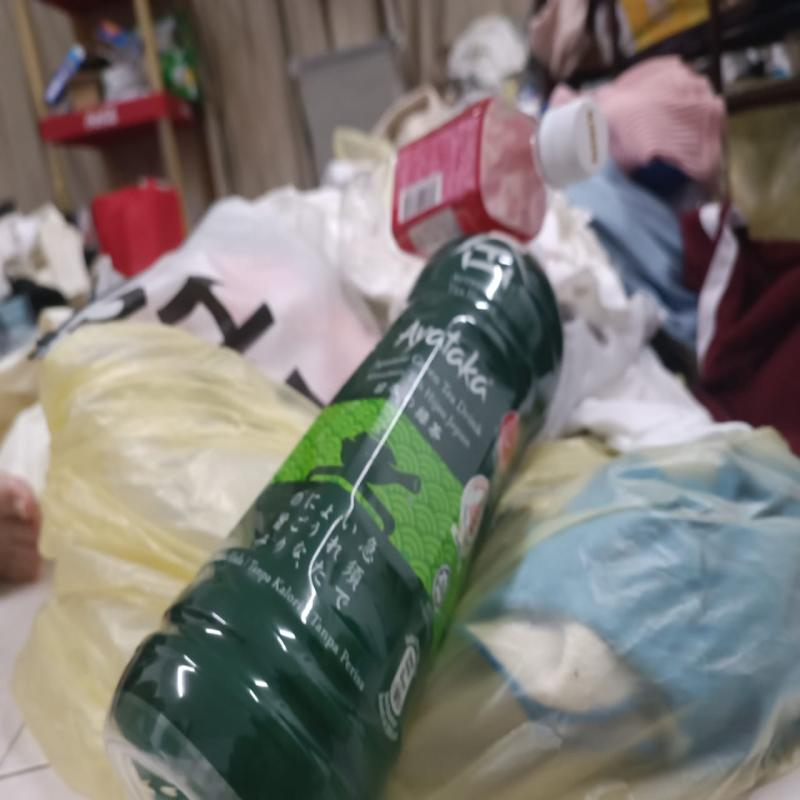botella: (111, 231, 571, 800), (342, 101, 604, 297)
